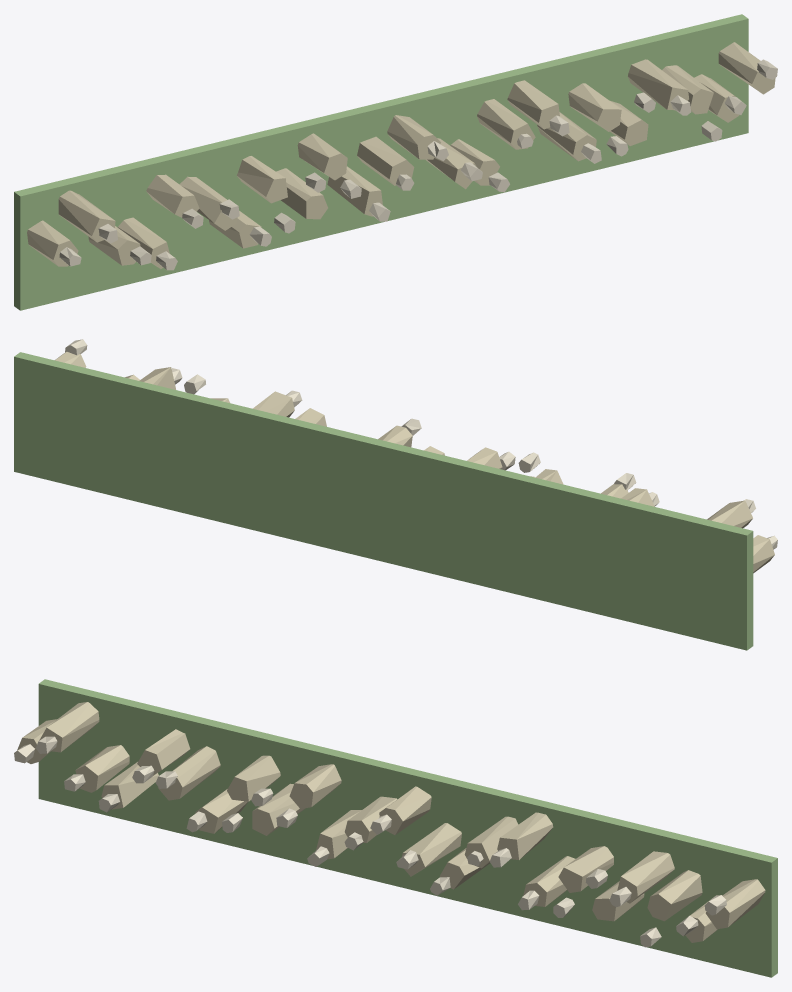
Rendered from r-102-fish-creek-cattail-margin.lod1.glb.
3 renders of one model, top to bottom at view 1: azimuth 30°, elevation 25°; view 2: azimuth 150°, elevation 25°; view 3: azimuth 330°, elevation 25°, orthographic.
Visible parts, largest first — view 1: grass-bank, reeds, reed-heads; view 2: grass-bank, reeds, reed-heads; view 3: grass-bank, reeds, reed-heads.
Boxes of the visible parts, x1,y1,x2,y2 form: grass-bank: [14, 14, 748, 310]; reeds: [27, 42, 775, 268]; reed-heads: [59, 59, 777, 270]; grass-bank: [14, 352, 753, 650]; reeds: [55, 352, 774, 573]; reed-heads: [65, 339, 777, 549]; grass-bank: [38, 679, 777, 977]; reeds: [17, 702, 765, 942]; reed-heads: [14, 736, 726, 947].
Bounding box in the file's own units: 20000 × 3001 × 2550.
